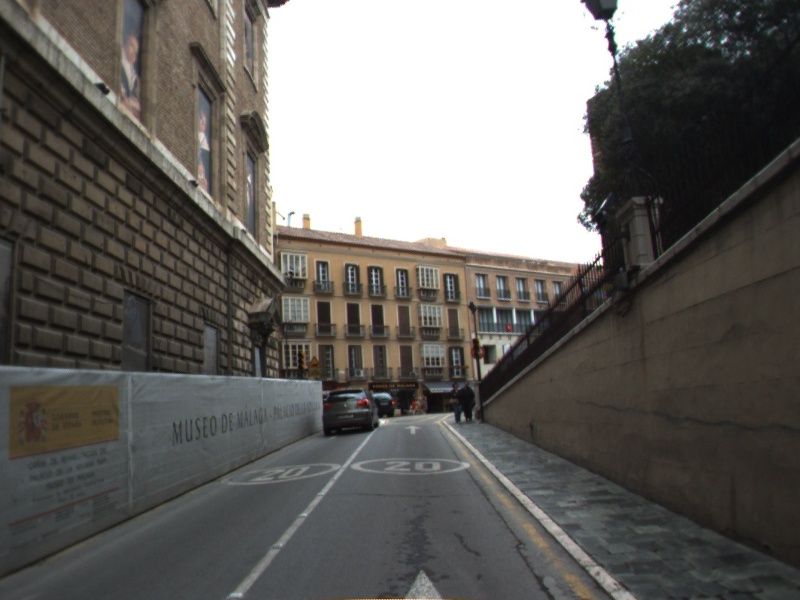STRAIGHT: (402, 423, 424, 436)
